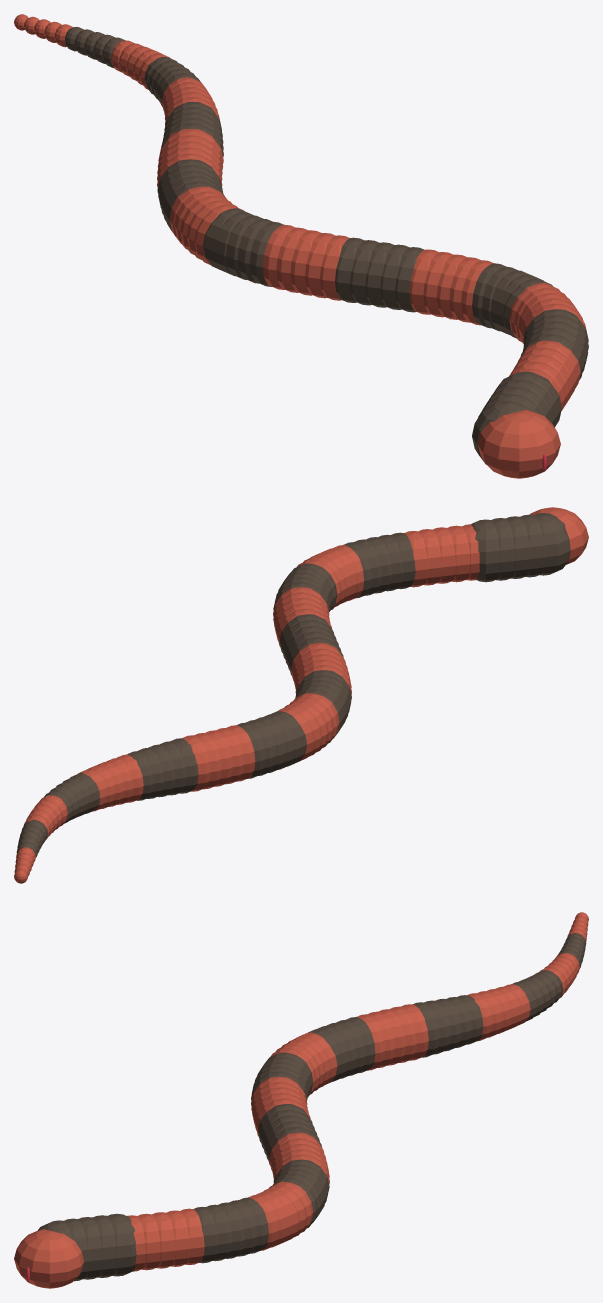
File: Snake_Slither_Red.glb
The picture shows the model from 3 angles, top to bottom: view 1: azimuth 30°, elevation 25°; view 2: azimuth 150°, elevation 25°; view 3: azimuth 330°, elevation 25°; orthographic projection. The views are drawn at different scales.
Visible parts, largest first — view 1: Snake_Slither_Red; view 2: Snake_Slither_Red; view 3: Snake_Slither_Red.
Part boxes in pixels (left/top/right/bottom): Snake_Slither_Red: left=14, top=14, right=588, bottom=478; Snake_Slither_Red: left=14, top=507, right=588, bottom=883; Snake_Slither_Red: left=14, top=912, right=588, bottom=1288.
Size of the model in its own units: 0.3386 by 0.1 by 1.61.
